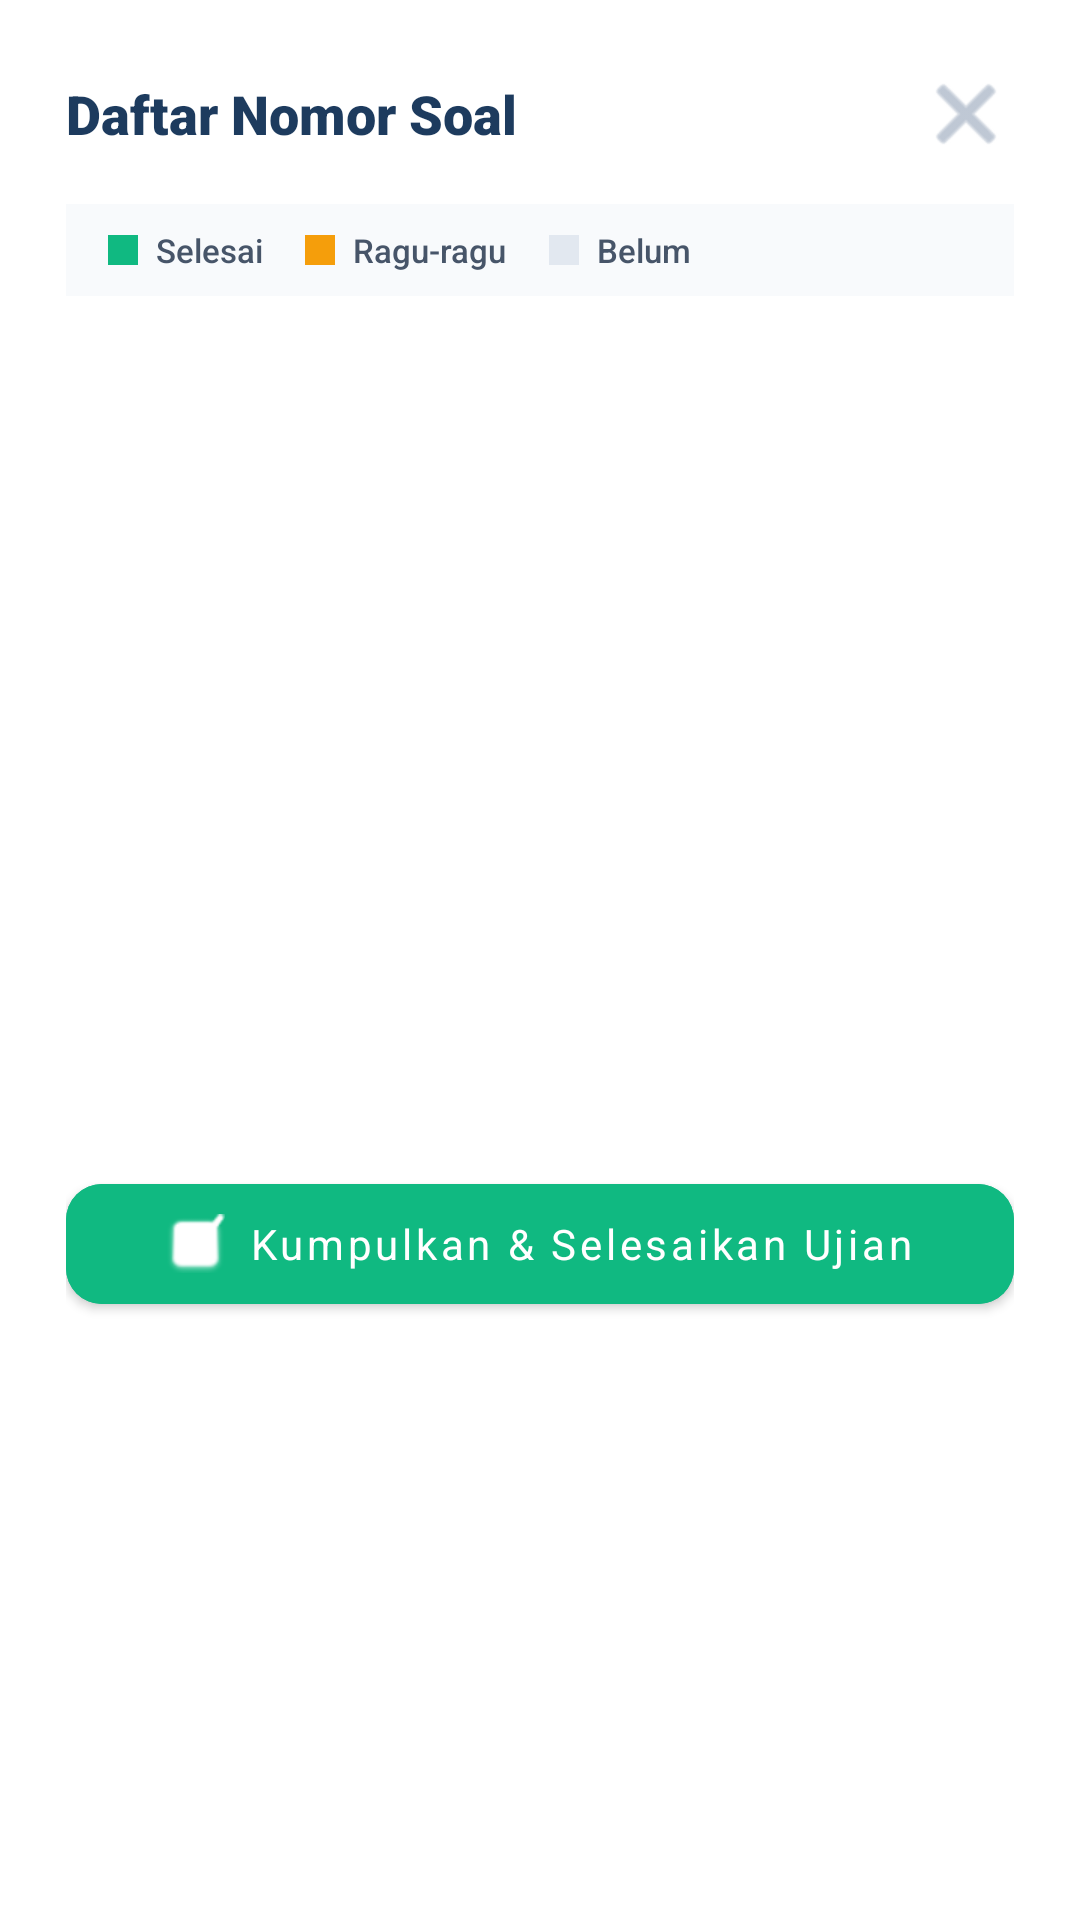

Icons on this 1080 × 1920 Android screen, each with the point to tap as point (x, y):
close clear cancel: point (966, 114)
